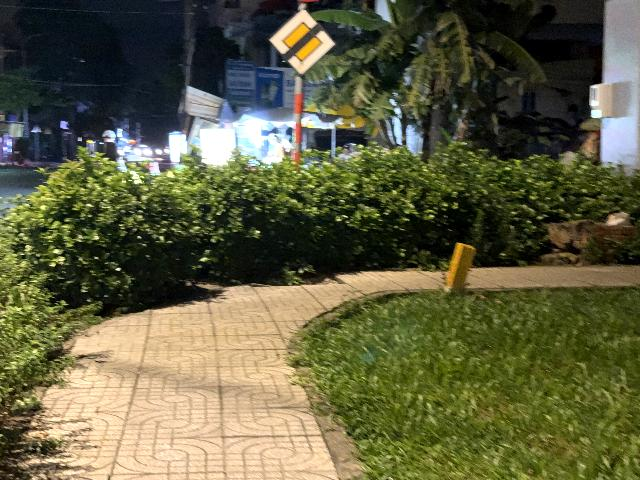het-duong-uu-tien: (268, 7, 337, 76)
